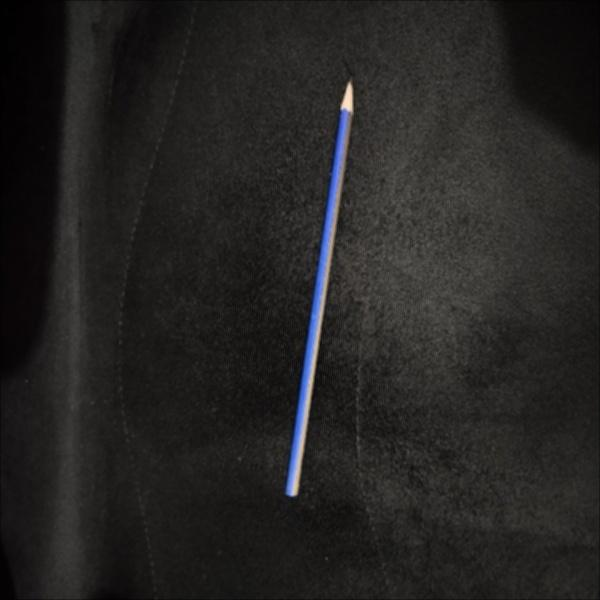pencil: (276, 77, 362, 505)
